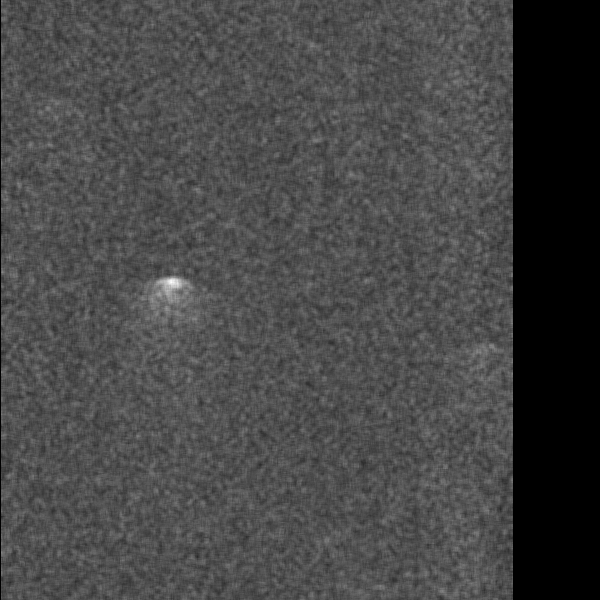spark: (145, 341, 185, 391)
